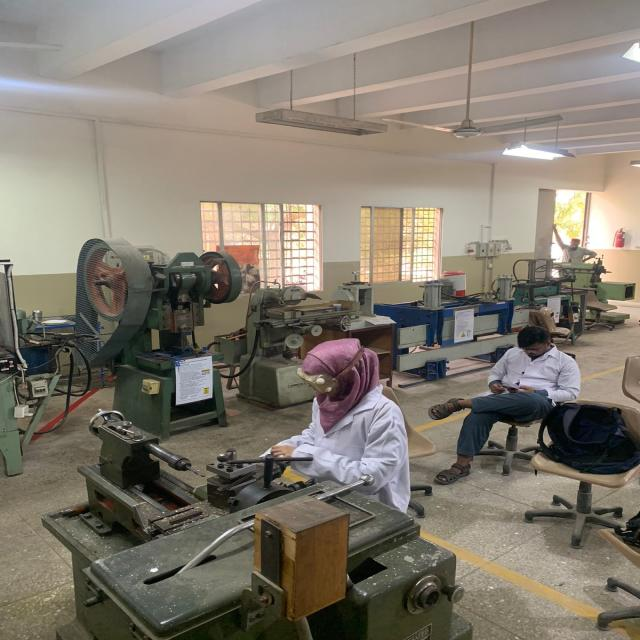googles: (294, 366, 335, 393)
labcoat: (251, 381, 416, 518), (484, 342, 585, 410)
